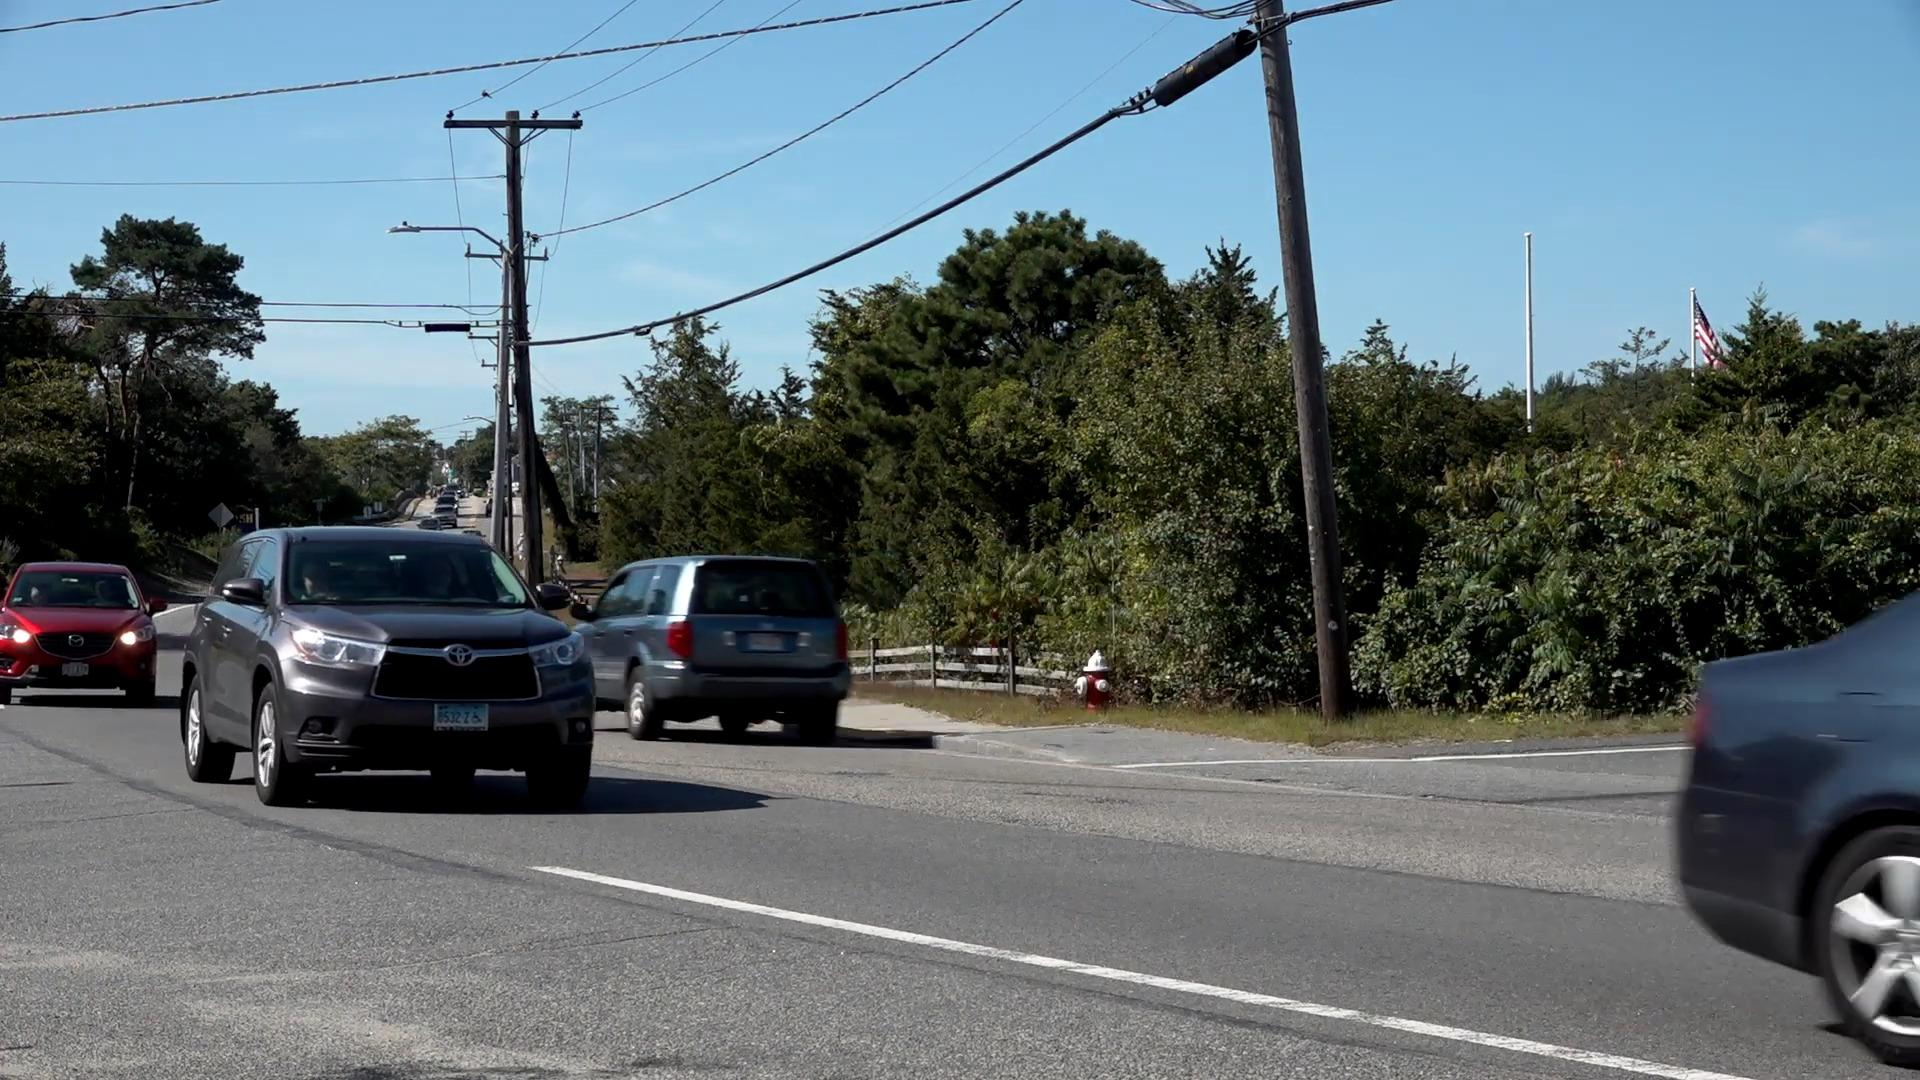suv: (185, 530, 589, 807), (585, 551, 851, 738), (0, 564, 153, 708)
